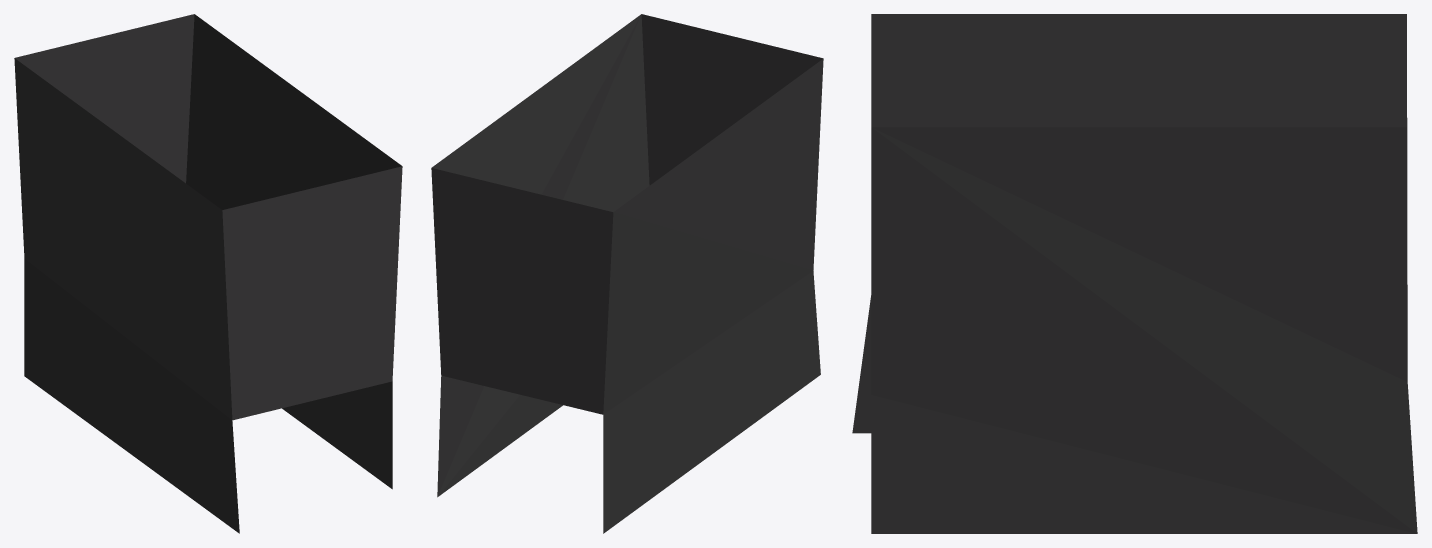
File: Cave_9B_LOD_2.fbx
3 renders of one model, left to right at view 1: azimuth 30°, elevation 25°; view 2: azimuth 150°, elevation 25°; view 3: azimuth 270°, elevation 25°, orthographic. The views are drawn at different scales.
Parts seen in each view (by area): view 1: polySurface9; view 2: polySurface9; view 3: polySurface9.
Part boxes in pixels (x1=…): polySurface9: x1=14, y1=14, x2=402, y2=533; polySurface9: x1=431, y1=14, x2=823, y2=533; polySurface9: x1=852, y1=14, x2=1417, y2=533.
Bounding box in the file's own units: 9 × 15.32 × 18.99.
